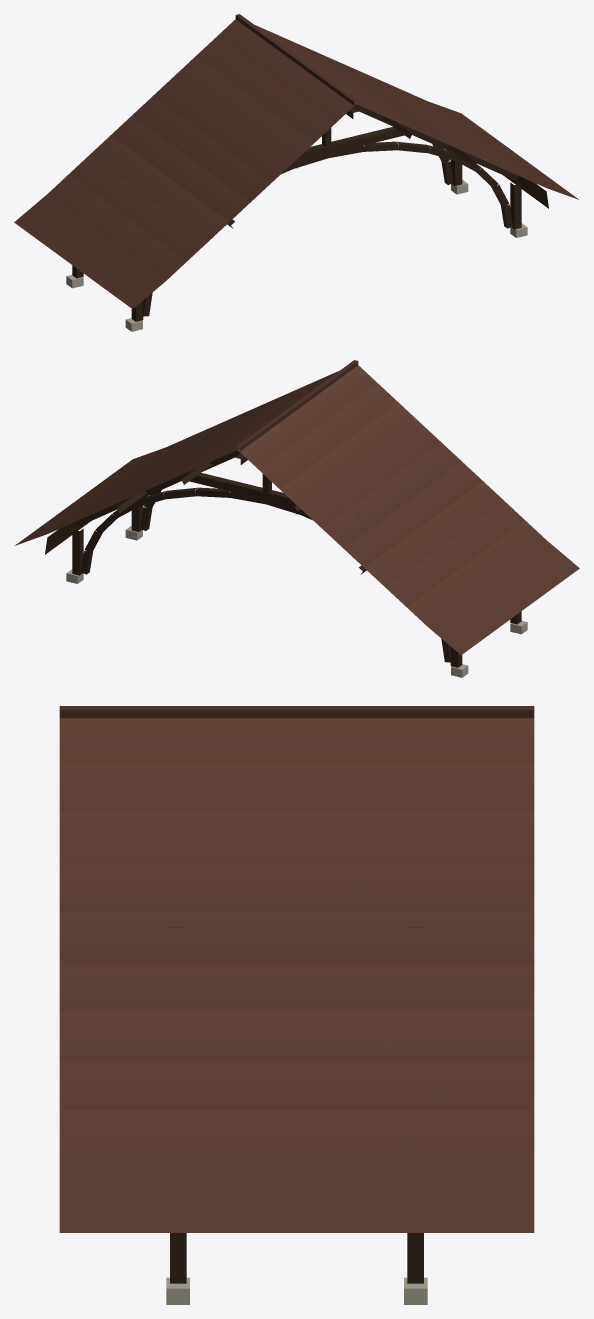
Rendered from roof.ridge_bay.shingle.glb.
The picture shows the model from 3 angles, top to bottom: view 1: azimuth 30°, elevation 25°; view 2: azimuth 150°, elevation 25°; view 3: azimuth 270°, elevation 25°; orthographic projection. The views are drawn at different scales.
Parts seen in each view (by area): view 1: roof_ridge_bay_shingle; view 2: roof_ridge_bay_shingle; view 3: roof_ridge_bay_shingle.
Part boxes in pixels (x1,y1,x2,y2): roof_ridge_bay_shingle: (14,14,578,331); roof_ridge_bay_shingle: (15,360,579,677); roof_ridge_bay_shingle: (59,706,534,1304).
Size of what is drawn, in the model's own units: 17.4 by 7.5 by 8.
